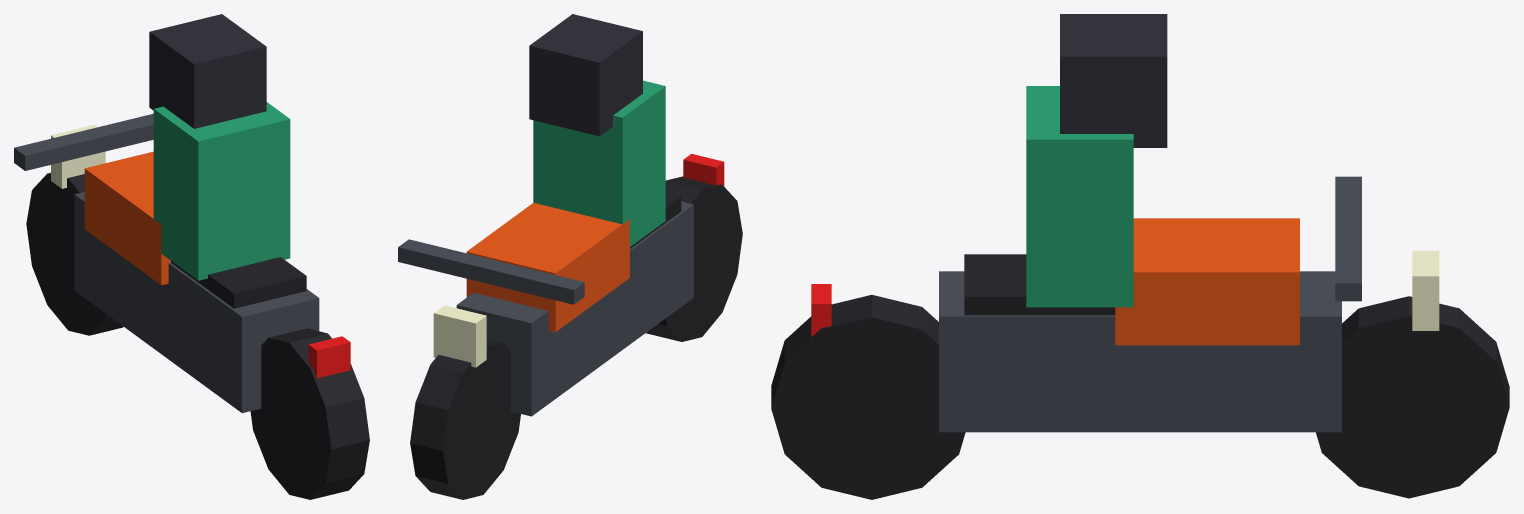
The model's file is motorbike.obj.
3 views of the same model, side by side, from view 1: azimuth 30°, elevation 25°; view 2: azimuth 150°, elevation 25°; view 3: azimuth 270°, elevation 25° (orthographic). The views are drawn at different scales.
Bounding box in the file's own units: 0.75 × 1.49 × 2.2.
